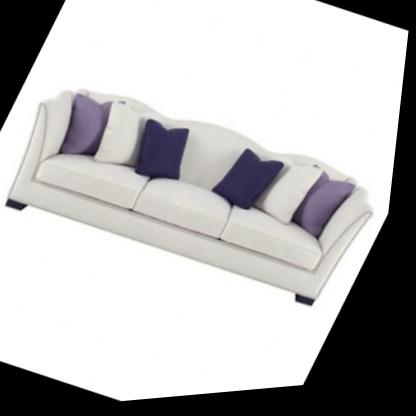Sofa: (0, 48, 409, 346)
